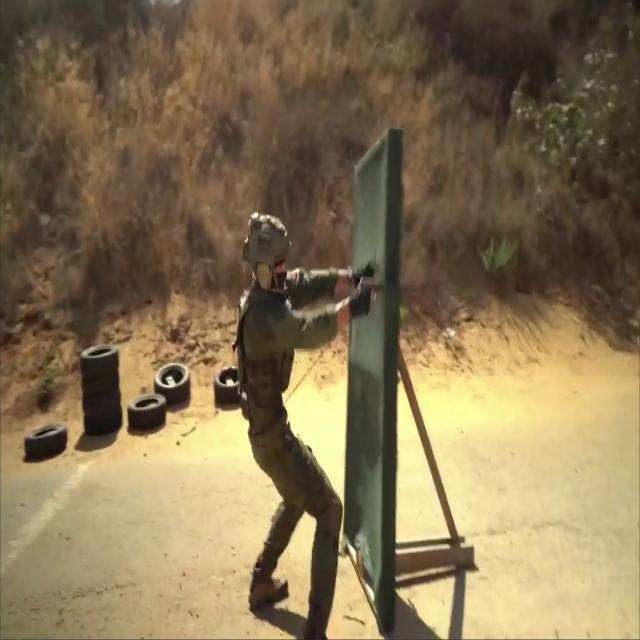Gun: (358, 276, 388, 312)
